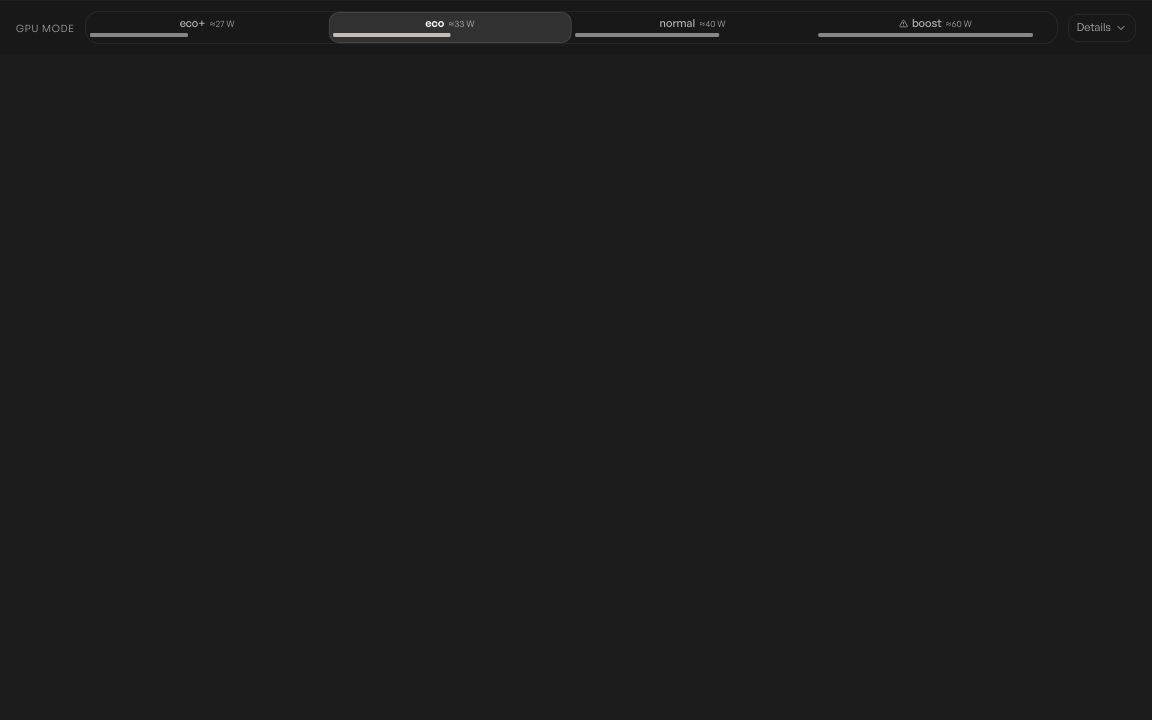
DeviceModeStrip › keeps the strip to the switch row until Details is opened
Expected: the text "Measured: " is not shown
Click the button with test id "device-toggle-detail".
click(1102, 28)  # box [1068,14,1136,42]
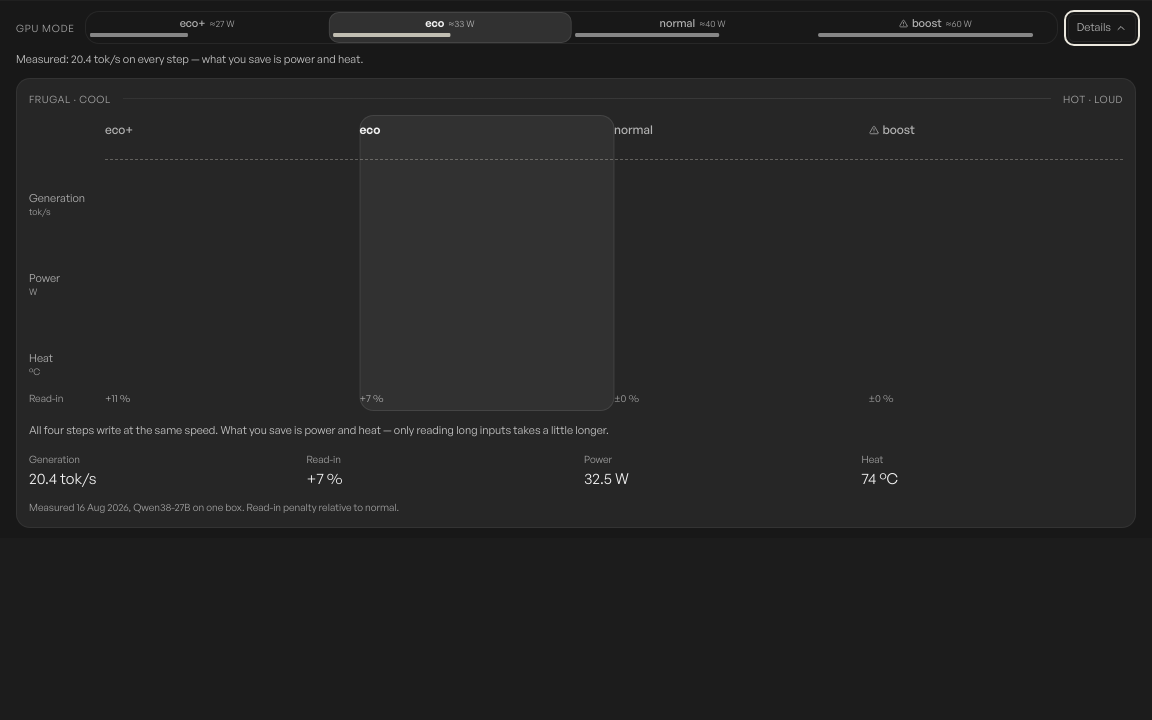
Expected: the element with test id "device-detail" is shown
Expected: the text "Measured: 20.4 tok/s on every step — what you save is power and heat." is shown, [16,52,363,66]
